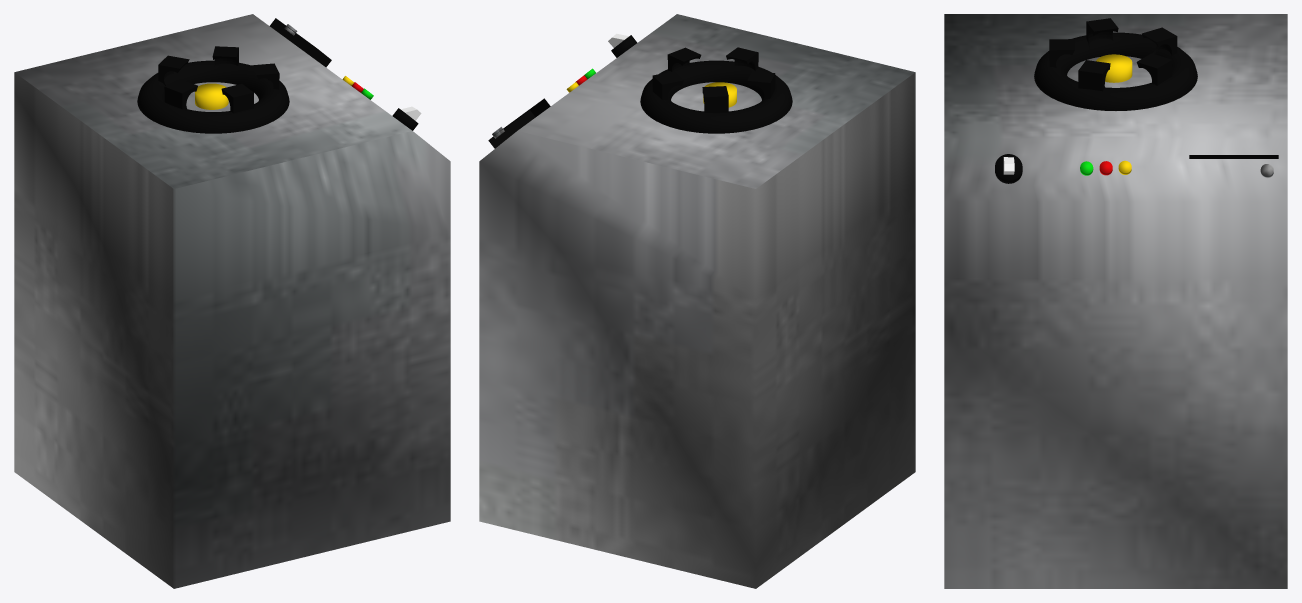
The model's file is stove.glb.
3 renders of one model, left to right at view 1: azimuth 30°, elevation 25°; view 2: azimuth 150°, elevation 25°; view 3: azimuth 270°, elevation 25°, orthographic. The views are drawn at different scales.
Parts seen in each view (by area): view 1: Cube, Torus.001, Cube.007, Cube.006; view 2: Cube, Torus.001, Cube.006; view 3: Cube, Torus.001, Cube.007, Cube.002.
Boxes of the visible parts, x1=… form: Cube: x1=14, y1=14, x2=450, y2=588; Torus.001: x1=137, y1=46, x2=289, y2=133; Cube.007: x1=195, y1=83, x2=228, y2=109; Cube.006: x1=270, y1=18, x2=331, y2=67; Cube: x1=479, y1=14, x2=915, y2=588; Torus.001: x1=640, y1=47, x2=792, y2=133; Cube.006: x1=488, y1=98, x2=550, y2=148; Cube: x1=944, y1=14, x2=1287, y2=588; Torus.001: x1=1034, y1=18, x2=1197, y2=110; Cube.007: x1=1096, y1=54, x2=1132, y2=82; Cube.002: x1=995, y1=154, x2=1022, y2=183.
Bounding box in the file's own units: 0.6783 × 1.01 × 0.6783.
Materials: 6 (1 with a texture image).
